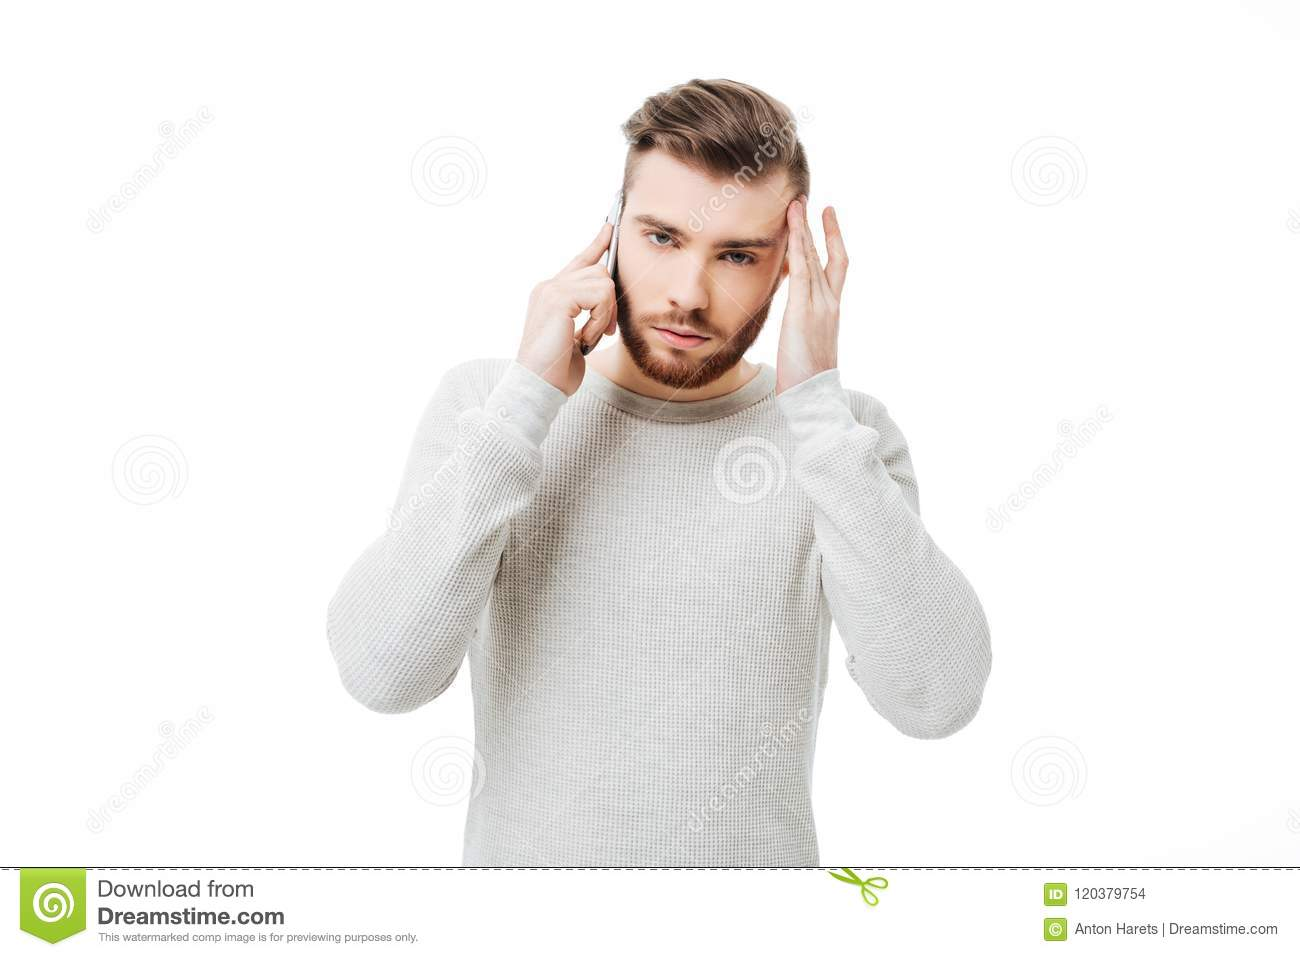phone: (577, 191, 629, 357)
talk: (517, 182, 776, 424)
